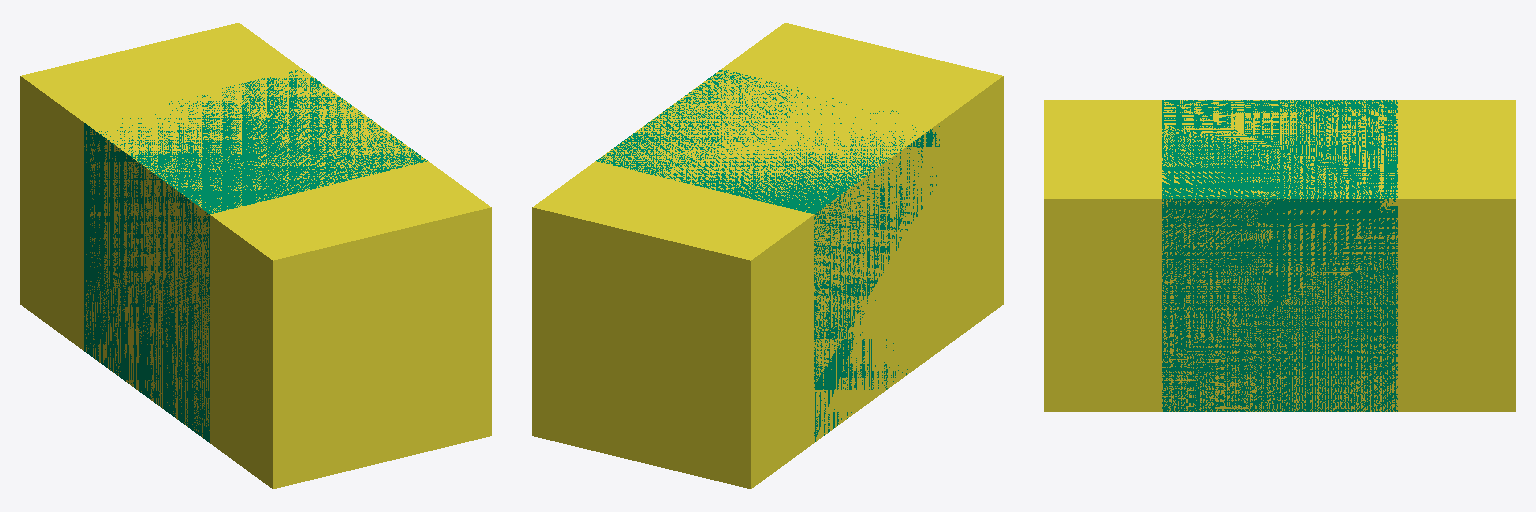
robot.urdf — gantry:
<?xml version="1.0" ?>
<!--
SPDX-FileCopyrightText: Copyright (c) 2024-2025 NVIDIA CORPORATION & AFFILIATES. All rights reserved.
SPDX-License-Identifier: Apache-2.0

Licensed under the Apache License, Version 2.0 (the "License");
you may not use this file except in compliance with the License.
You may obtain a copy of the License at

http://www.apache.org/licenses/LICENSE-2.0

Unless required by applicable law or agreed to in writing, software
distributed under the License is distributed on an "AS IS" BASIS,
WITHOUT WARRANTIES OR CONDITIONS OF ANY KIND, either express or implied.
See the License for the specific language governing permissions and
limitations under the License.
-->

<robot name="gantry">
    <link name="base"/>
    <link name="link0"/>
    <link name="link1">
        <visual>
            <geometry>
                <box size="0.1 0.1 0.1"/>
            </geometry>
        </visual>
    </link>
    <link name="link1_scaled">
        <visual>
            <geometry>
                <box size="0.1 0.2 0.1"/>
            </geometry>
        </visual>
    </link>
    <joint name="x_slide" type="prismatic">
        <parent link="base"/>
        <child link="link0"/>
        <origin rpy="0 0 0" xyz="0 0 0"/>
        <axis xyz="1 0 0"/>
        <limit effort="100" lower="-100" upper="100" velocity="100"/>
    </joint>
    <joint name="y_slide" type="prismatic">
        <parent link="link0"/>
        <child link="link1"/>
        <origin rpy="0 0 0" xyz="0 0 0"/>
        <axis xyz="0 1 0"/>
        <limit effort="100" lower="-100" upper="100" velocity="100"/>
    </joint>
    <joint name="y_slide_mimic" type="prismatic">
        <parent link="link0"/>
        <child link="link1_scaled"/>
        <origin rpy="0 0 0" xyz="0 0 0"/>
        <axis xyz="0 1 0"/>
        <mimic joint="y_slide" multiplier="2" offset="0"/>
        <limit effort="1000" velocity="200"/>
    </joint>
</robot>

--- Render facts (derived) ---
3 views of the same robot in one strip: view 1: azimuth 30°, elevation 25°; view 2: azimuth 150°, elevation 25°; view 3: azimuth 270°, elevation 25° (orthographic).
Model gantry with 4 links and 3 joints (3 prismatic), rooted at base, posed all joints at 0.
Visible links, largest first — view 1: link1_scaled, link1; view 2: link1_scaled, link1; view 3: link1_scaled, link1.
Link boxes in pixels (x1,y1,x2,y2): link1_scaled: (20, 23, 491, 488); link1: (84, 69, 427, 442); link1_scaled: (532, 23, 1003, 488); link1: (596, 70, 939, 441); link1_scaled: (1044, 100, 1515, 411); link1: (1162, 100, 1397, 411).
Bounding box of the posed robot: 0.1 × 0.2 × 0.1 m (x, y, z).
Geometry: primitives only (box / cylinder / sphere), no mesh files.